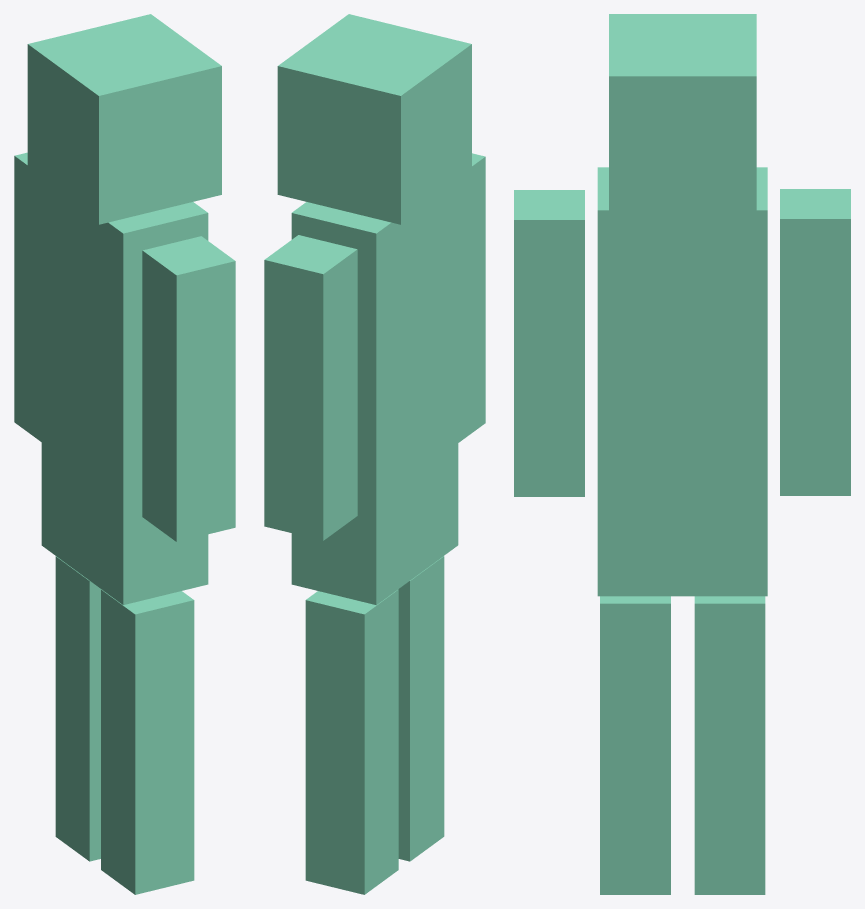
The model's file is blockMan_lightGreen.fbx.
The picture shows the model from 3 angles, left to right: view 1: azimuth 30°, elevation 25°; view 2: azimuth 150°, elevation 25°; view 3: azimuth 270°, elevation 25°; orthographic projection. The views are drawn at different scales.
Parts seen in each view (by area): view 1: Character; view 2: Character; view 3: Character.
Part boxes in pixels (<box>): Character: <box>14,14,235,894</box>; Character: <box>264,14,485,894</box>; Character: <box>514,14,850,894</box>.
Bounding box in the file's own units: 174 × 1085 × 397.
